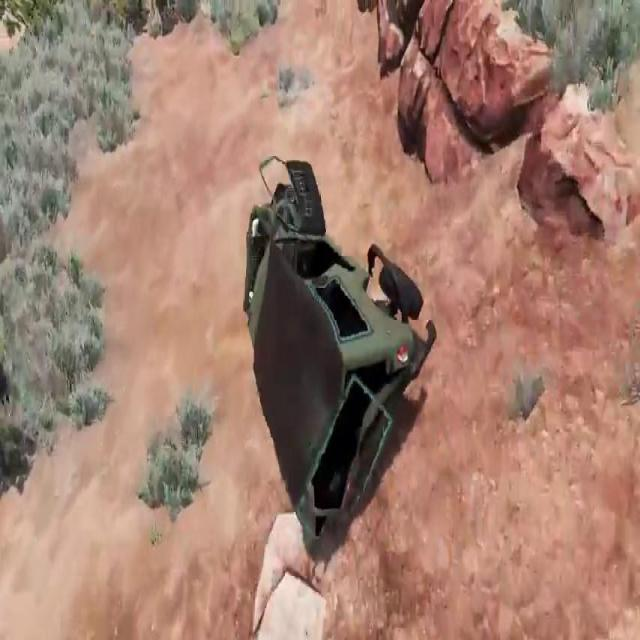accident: (240, 152, 435, 560)
